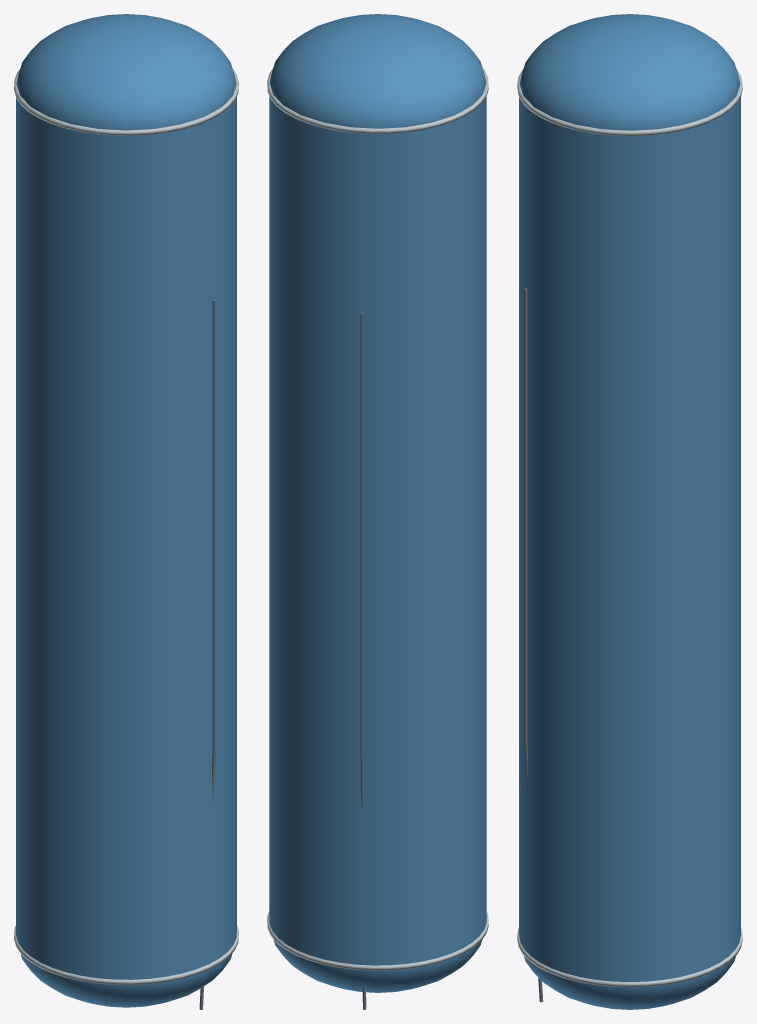
The model's file is atlas_v_core_lox_vessel.glb.
3 renders of one model, left to right at view 1: azimuth 30°, elevation 25°; view 2: azimuth 150°, elevation 25°; view 3: azimuth 270°, elevation 25°, orthographic.
Visible parts, largest first — view 1: atlas_v_core_lox_vessel.mesh_Cutaway_liquid_oxygen, atlas_v_core_lox_vessel.mesh_Satin_aluminum, atlas_v_core_lox_vessel.mesh_Machined_steel; view 2: atlas_v_core_lox_vessel.mesh_Cutaway_liquid_oxygen, atlas_v_core_lox_vessel.mesh_Satin_aluminum, atlas_v_core_lox_vessel.mesh_Machined_steel; view 3: atlas_v_core_lox_vessel.mesh_Cutaway_liquid_oxygen, atlas_v_core_lox_vessel.mesh_Satin_aluminum, atlas_v_core_lox_vessel.mesh_Machined_steel.
Part boxes in pixels (box(x1,y1,x2,y2)): atlas_v_core_lox_vessel.mesh_Cutaway_liquid_oxygen: box(16, 14, 236, 1007); atlas_v_core_lox_vessel.mesh_Satin_aluminum: box(14, 69, 238, 985); atlas_v_core_lox_vessel.mesh_Machined_steel: box(199, 299, 215, 1009); atlas_v_core_lox_vessel.mesh_Cutaway_liquid_oxygen: box(269, 14, 486, 992); atlas_v_core_lox_vessel.mesh_Satin_aluminum: box(267, 68, 488, 970); atlas_v_core_lox_vessel.mesh_Machined_steel: box(360, 312, 366, 1009); atlas_v_core_lox_vessel.mesh_Cutaway_liquid_oxygen: box(519, 14, 740, 1009); atlas_v_core_lox_vessel.mesh_Satin_aluminum: box(517, 69, 742, 987); atlas_v_core_lox_vessel.mesh_Machined_steel: box(524, 288, 543, 1002).
Size of the model in its own units: 3.6 by 16.94 by 3.6.
